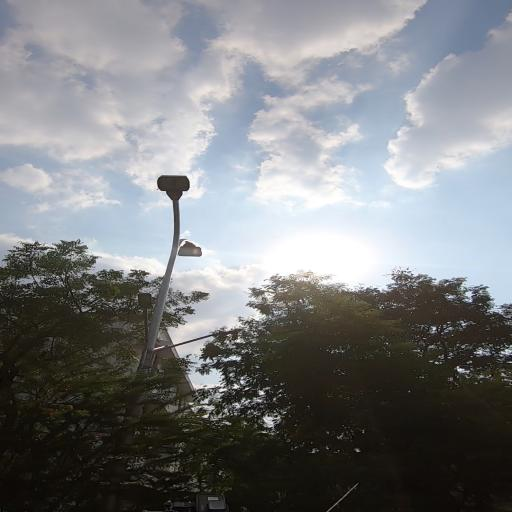Street_light: (151, 172, 198, 221), (136, 290, 158, 330), (177, 234, 206, 264)
